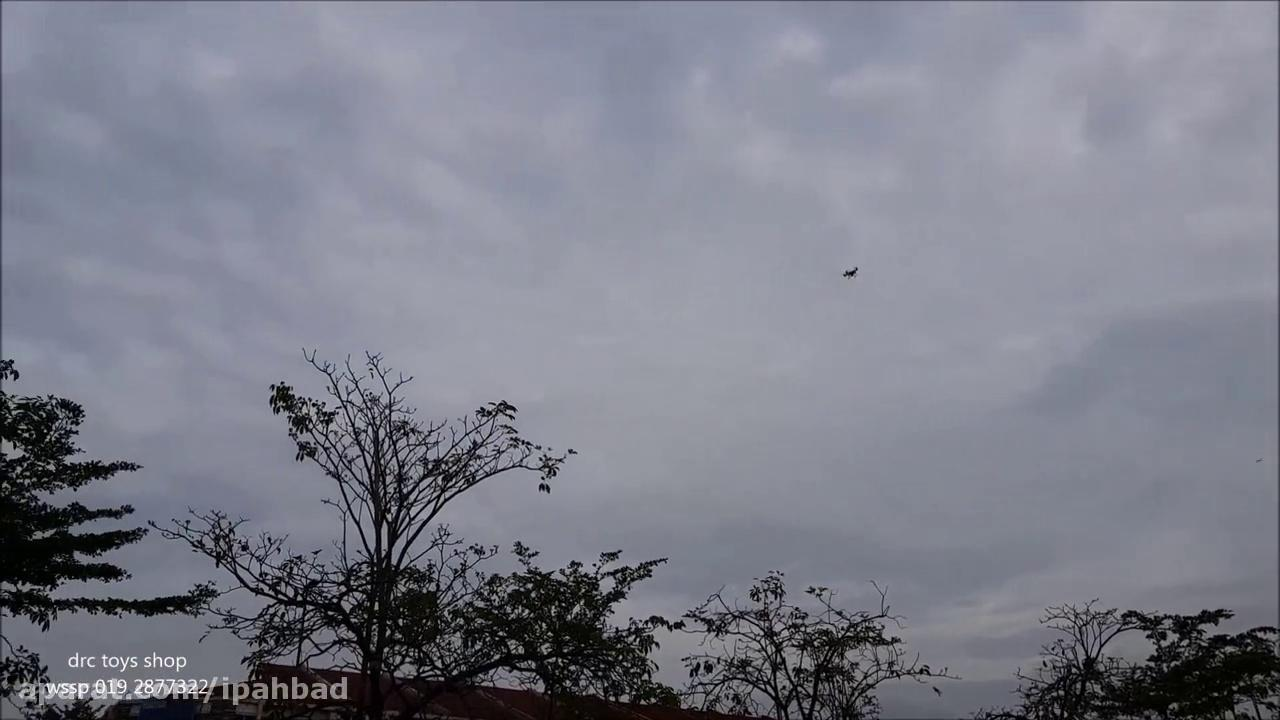drone: (842, 263, 862, 280)
